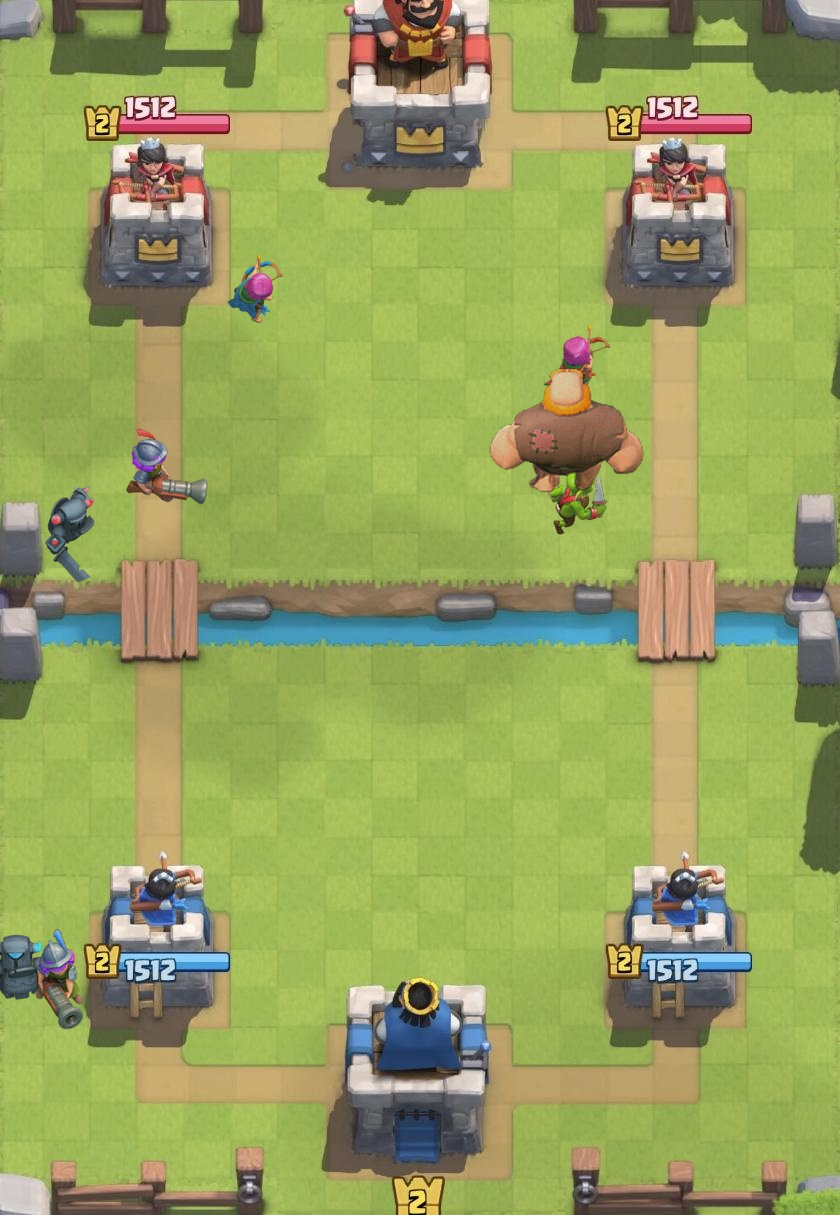archer_ally: (228, 253, 283, 323)
archer_enemy: (543, 324, 611, 397)
giant_enemy: (489, 368, 644, 493)
goblin_enemy: (547, 470, 608, 535)
mekka_ally: (0, 934, 62, 1000)
mekka_enemy: (45, 486, 95, 583)
musketeer_ally: (35, 928, 84, 1030)
musketeer_enemy: (126, 428, 208, 505)
